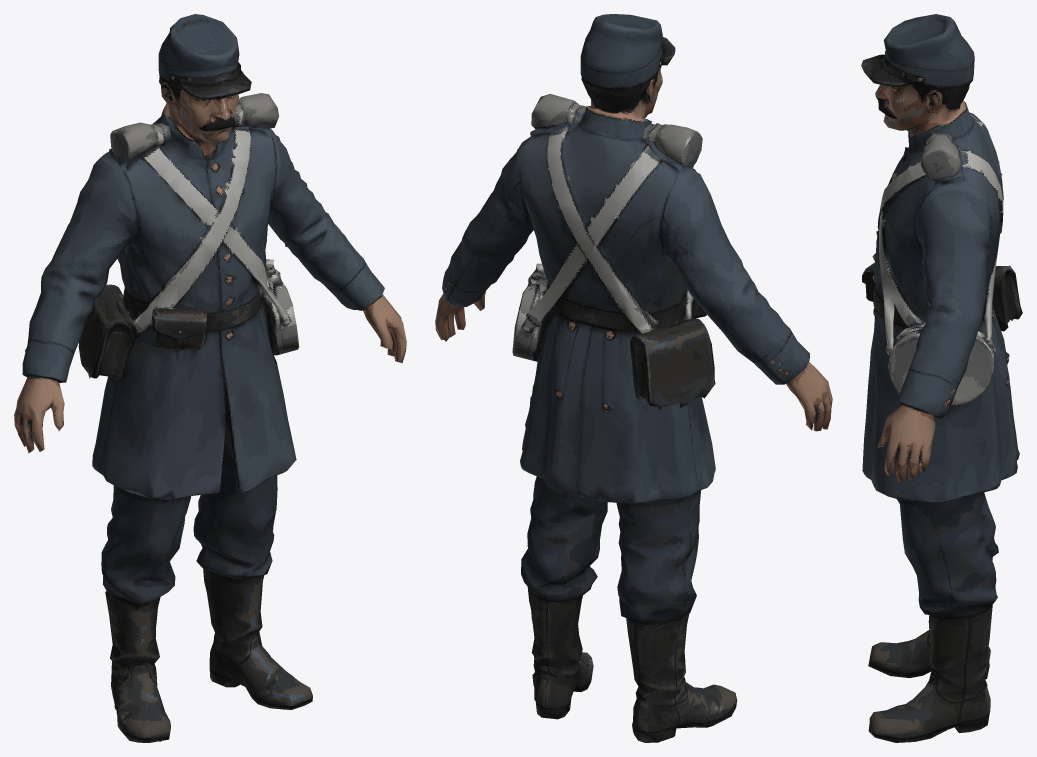
Rendered from soldado.glb.
The picture shows the model from 3 angles, left to right: view 1: azimuth 30°, elevation 25°; view 2: azimuth 150°, elevation 25°; view 3: azimuth 270°, elevation 25°; orthographic projection.
Visible parts, largest first — view 1: tripo_node_8092f452-fad5-4f76-ac99-7ac63dee5321; view 2: tripo_node_8092f452-fad5-4f76-ac99-7ac63dee5321; view 3: tripo_node_8092f452-fad5-4f76-ac99-7ac63dee5321.
Boxes of the visible parts, <box> form: tripo_node_8092f452-fad5-4f76-ac99-7ac63dee5321: <box>14,14,406,742</box>; tripo_node_8092f452-fad5-4f76-ac99-7ac63dee5321: <box>435,14,832,742</box>; tripo_node_8092f452-fad5-4f76-ac99-7ac63dee5321: <box>861,14,1022,742</box>.
Size of the model in its own units: 0.5848 by 1 by 0.2151.
Materials: 1 (1 with a texture image).
